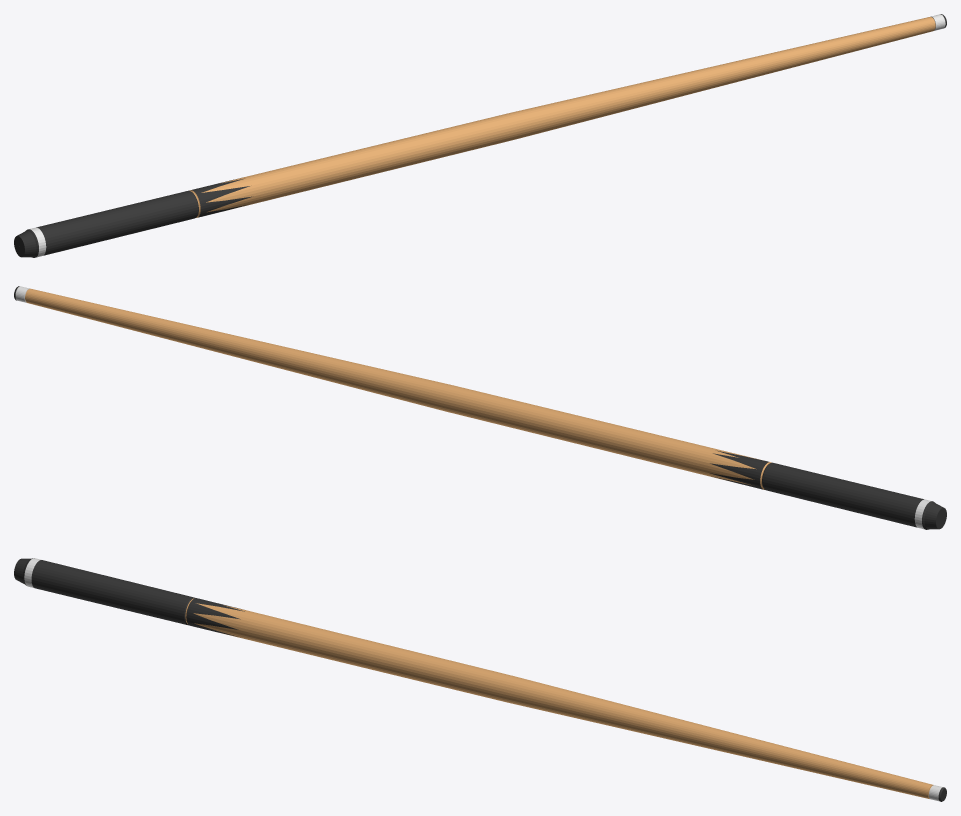
The model's file is biljardkon.glb.
3 renders of one model, top to bottom at view 1: azimuth 30°, elevation 25°; view 2: azimuth 150°, elevation 25°; view 3: azimuth 330°, elevation 25°, orthographic.
Parts seen in each view (by area): view 1: kon; view 2: kon; view 3: kon.
Boxes of the visible parts, x1,y1,x2,y2 form: kon: (14, 14, 946, 257); kon: (14, 286, 946, 529); kon: (14, 558, 946, 801).
Bounding box in the file's own units: 0.9839 × 0.0271 × 0.0271.
